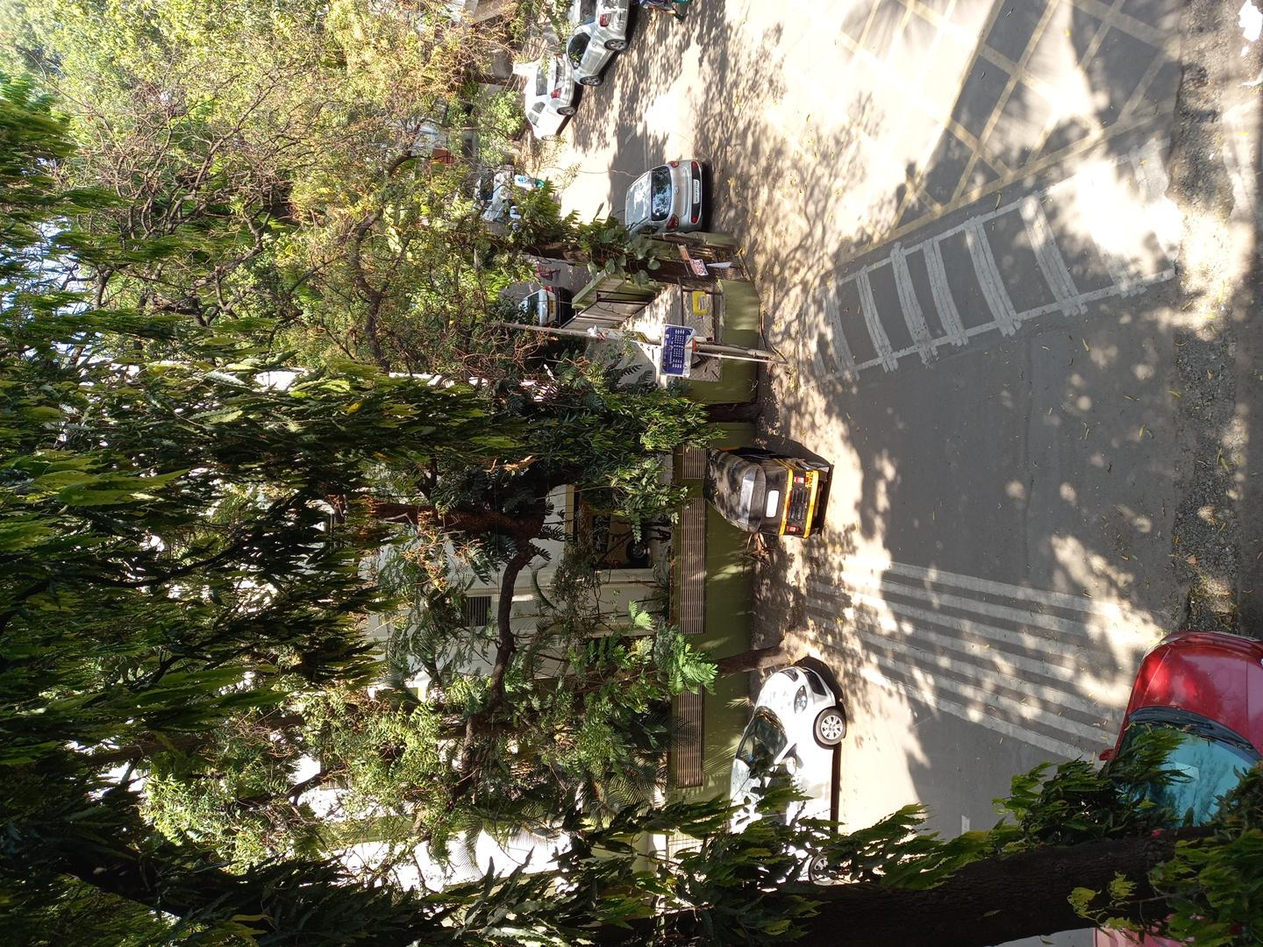Auto: (509, 521, 690, 635)
